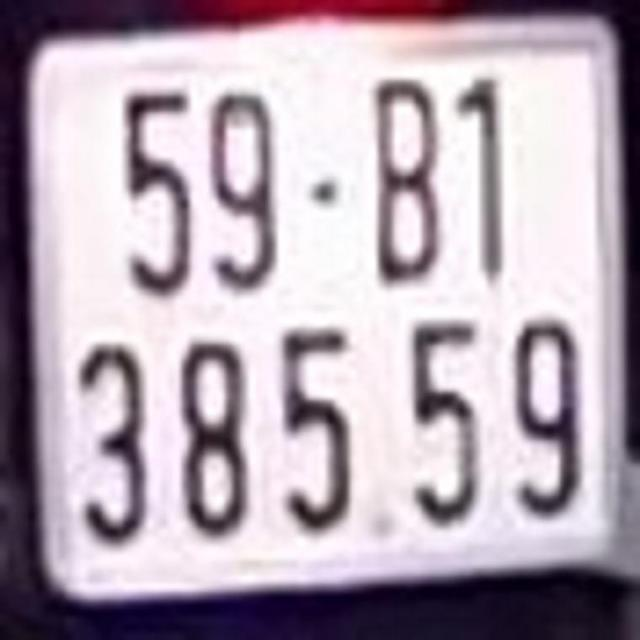1: (456, 72, 508, 280)
3: (78, 338, 149, 541)
5: (117, 85, 198, 290), (282, 325, 357, 538), (413, 318, 483, 532)
8: (180, 342, 251, 535)
9: (209, 90, 279, 295), (516, 320, 584, 520)
B: (375, 85, 444, 278)
